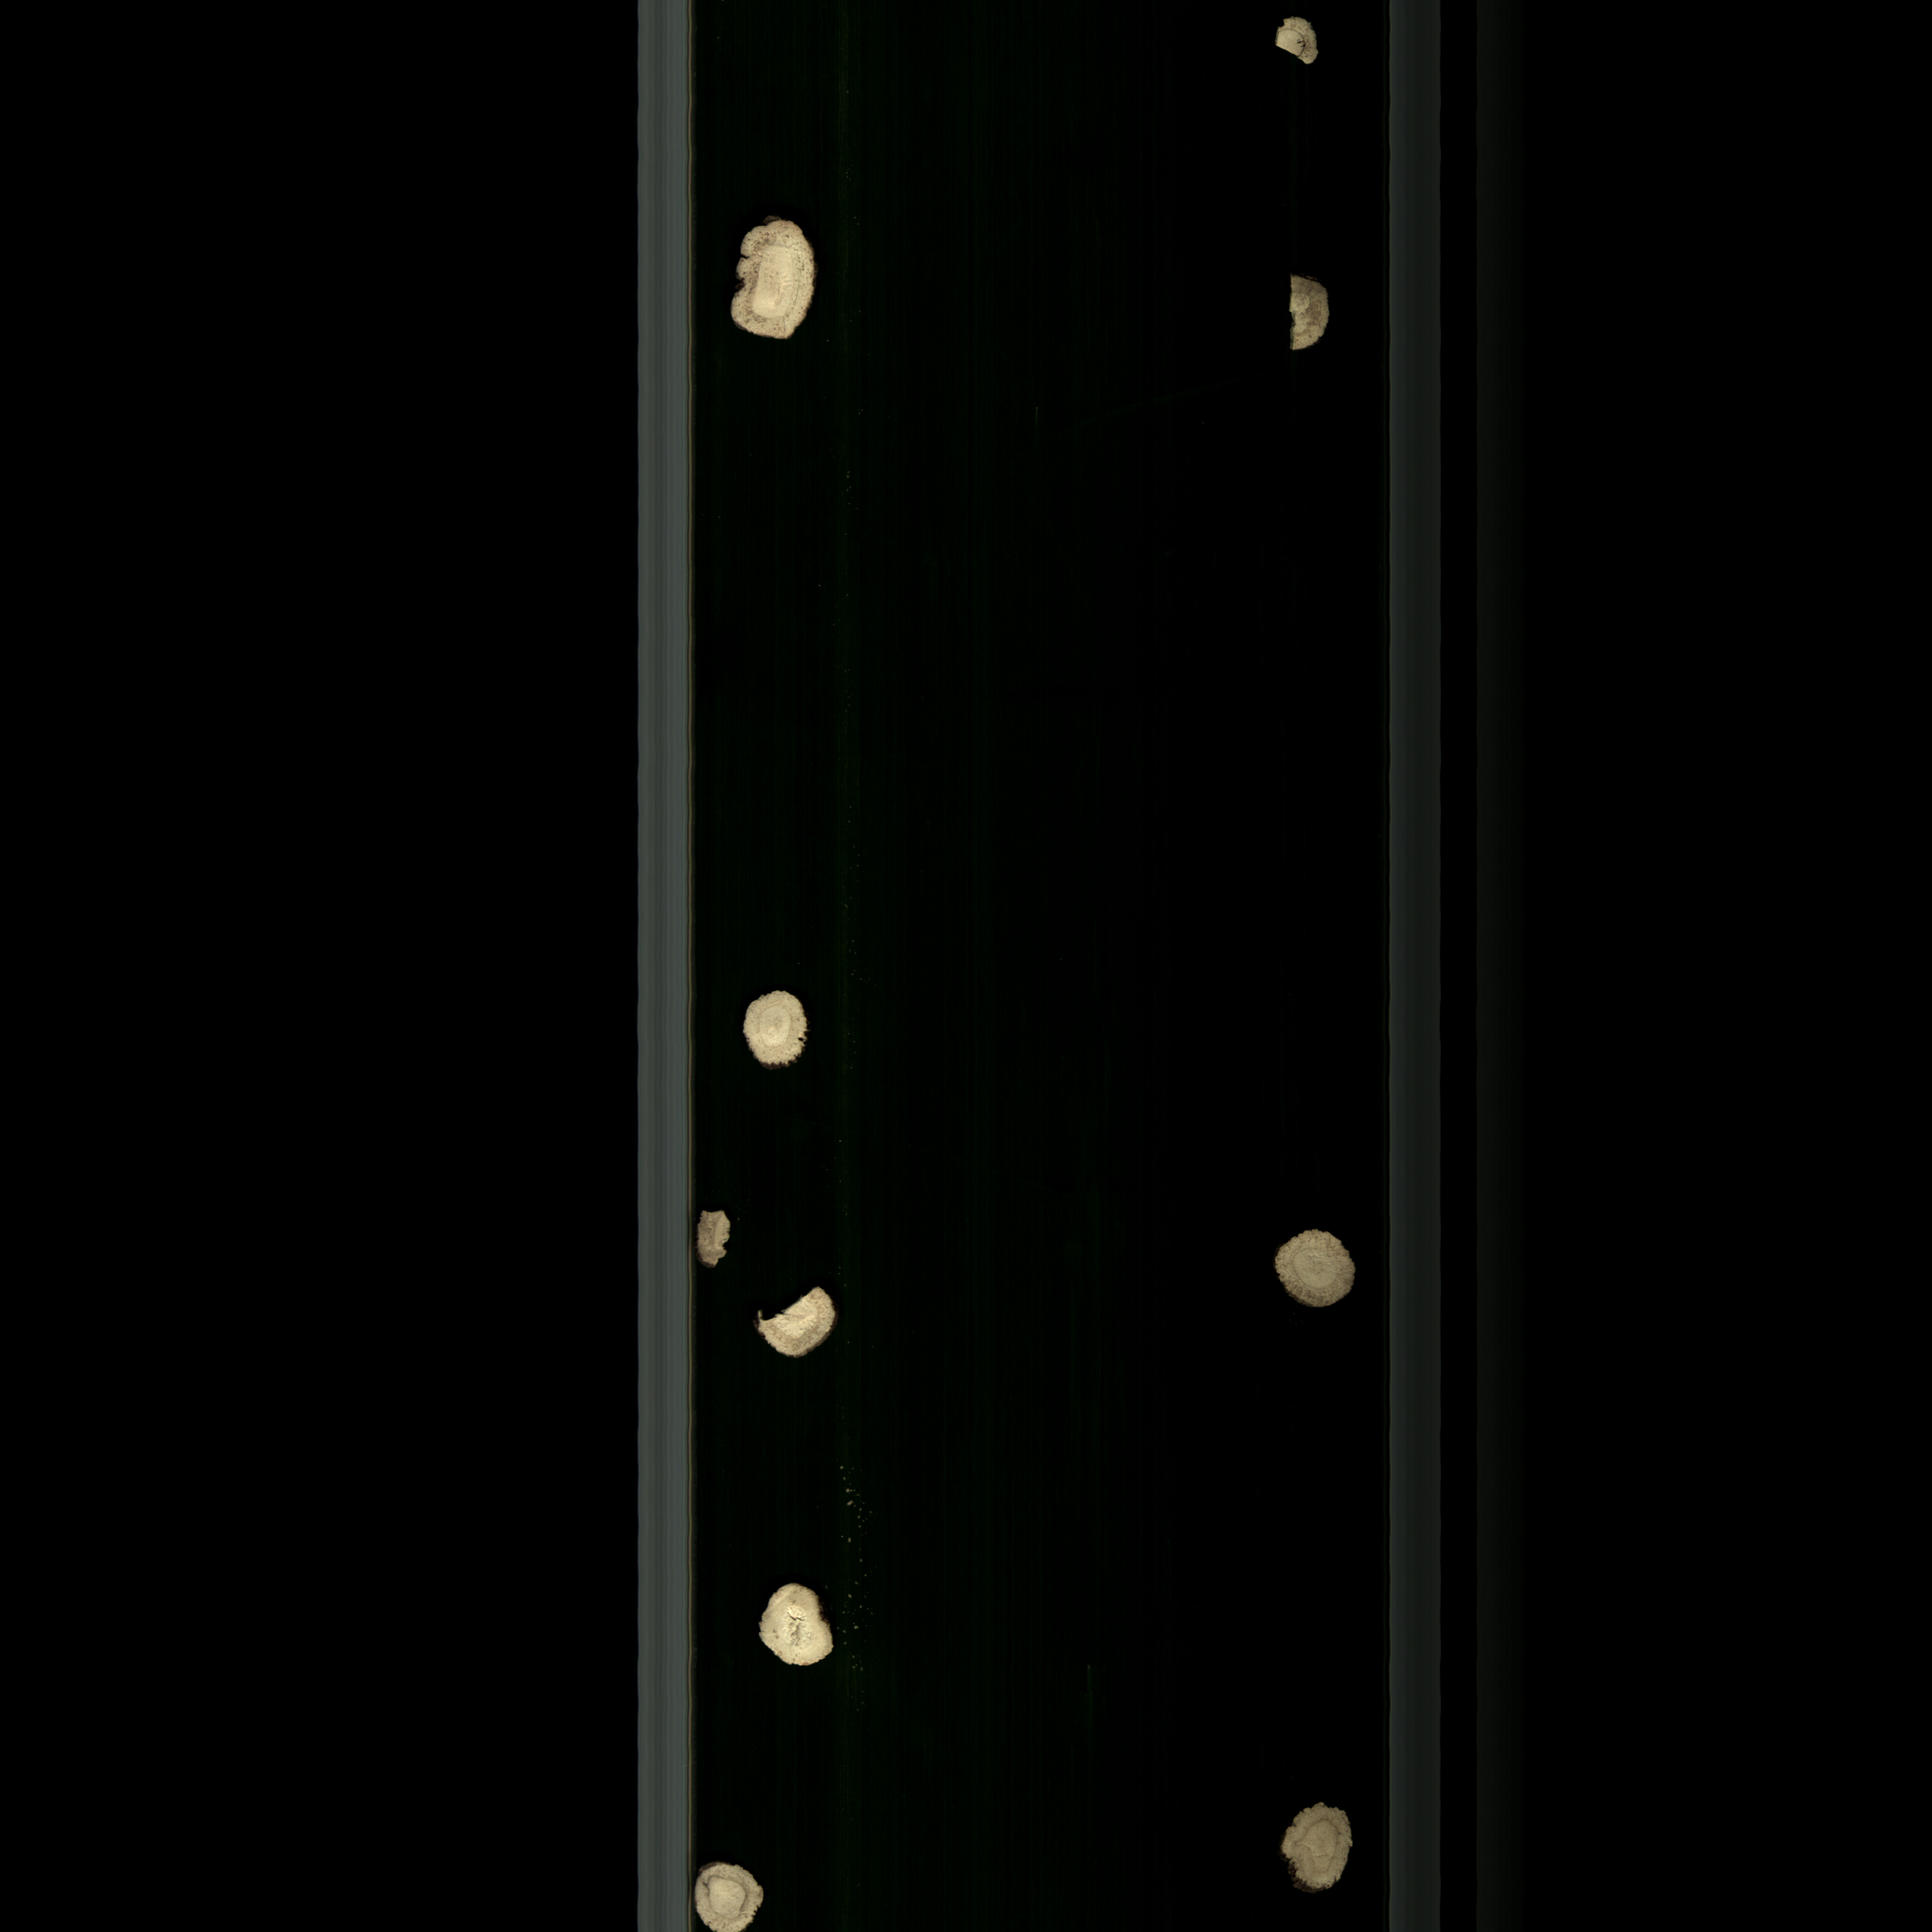debris: (747, 1276, 846, 1361), (1277, 265, 1338, 370)
distortion: (725, 207, 828, 354), (1270, 1790, 1353, 1900)
dreg: (1263, 11, 1327, 80), (692, 1198, 736, 1270)
hole: (748, 1573, 849, 1679)
moldy: (1270, 1223, 1366, 1320)
